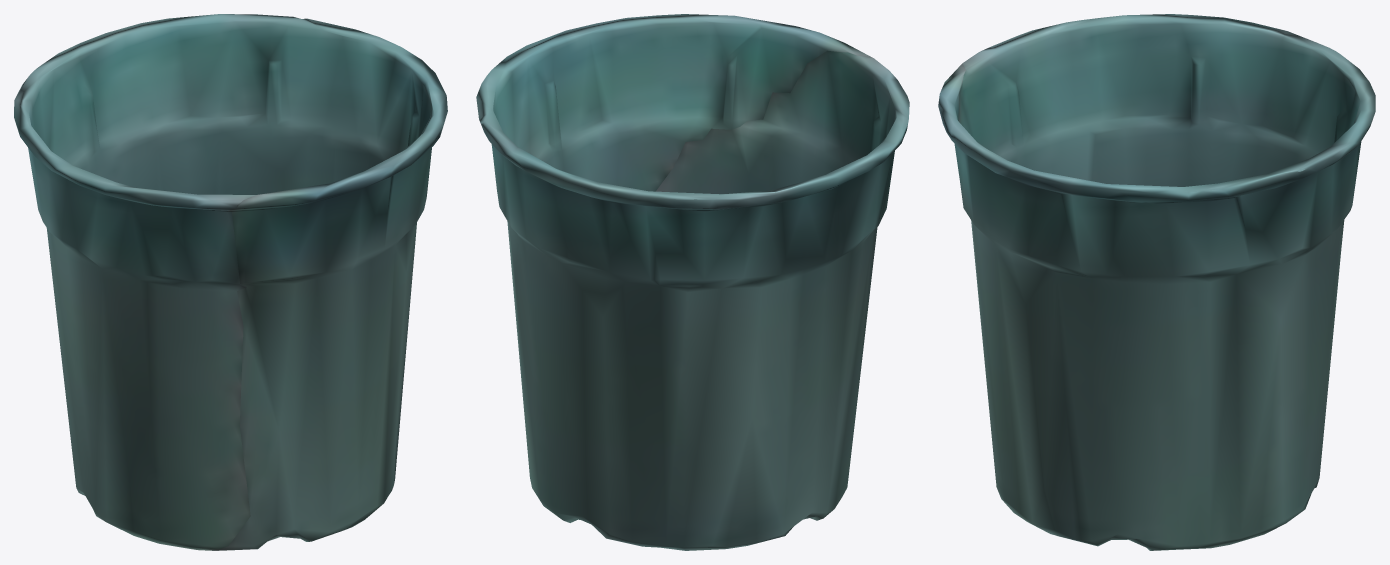
The model's file is Ecoforms_Garden_Pot_GP16ATurquois-medium.glb.
3 renders of one model, left to right at view 1: azimuth 30°, elevation 25°; view 2: azimuth 150°, elevation 25°; view 3: azimuth 270°, elevation 25°, orthographic.
Visible parts, largest first — view 1: Ecoforms_Garden_Pot_GP16ATurquois; view 2: Ecoforms_Garden_Pot_GP16ATurquois; view 3: Ecoforms_Garden_Pot_GP16ATurquois.
Part boxes in pixels (x1=…): Ecoforms_Garden_Pot_GP16ATurquois: x1=14, y1=14, x2=447, y2=550; Ecoforms_Garden_Pot_GP16ATurquois: x1=476, y1=14, x2=909, y2=550; Ecoforms_Garden_Pot_GP16ATurquois: x1=938, y1=14, x2=1375, y2=550.
Bounding box in the file's own units: 0.1643 × 0.161 × 0.1636.
Materials: 1 (1 with a texture image).
